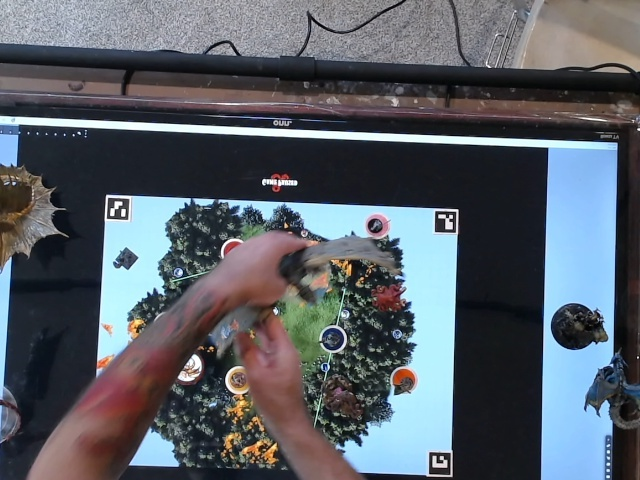blue: (321, 323, 351, 354)
orange: (385, 361, 422, 398)
pink: (362, 213, 394, 240)
red: (215, 236, 250, 267)
yellow: (222, 363, 257, 397)
